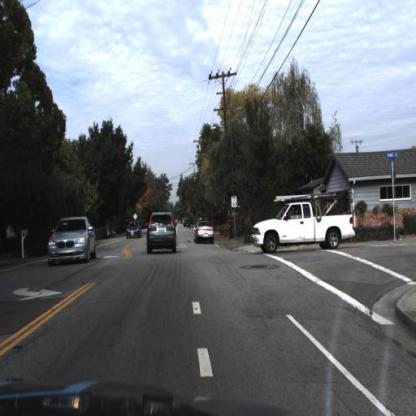car: (253, 190, 354, 259), (46, 211, 98, 270), (144, 209, 179, 255), (194, 217, 216, 248), (124, 219, 144, 244), (126, 218, 144, 241)
